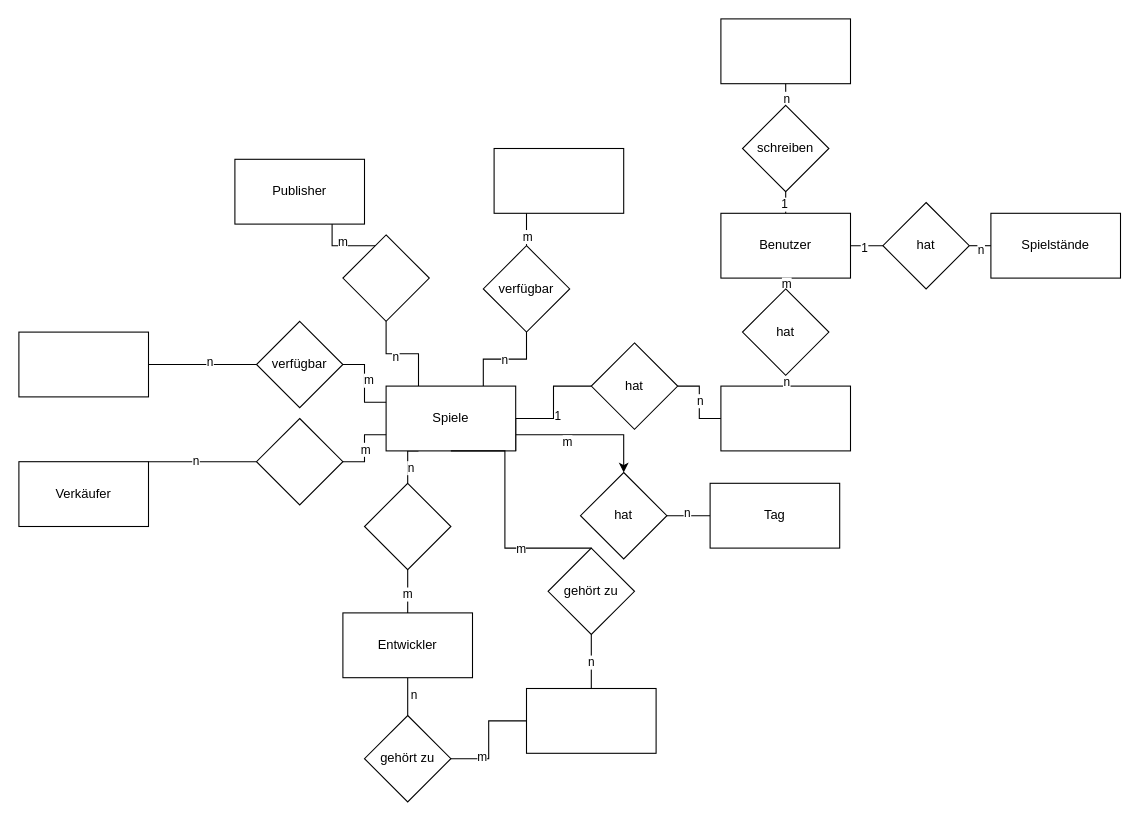
Image size: 1139x821. Some labels were removed from this diagram. The centre of each missing label's shape, as x and y in pixels:
"Achievements" goes at point 785,418.
"Bewertung" goes at point 785,51.
"entwickelt" goes at point 407,526.
"Genre" goes at point 590,720.
"kaufen" goes at point 299,461.
"Launcher" goes at point 558,180.
"Plattformen" goes at point 83,364.
"veröffentlicht" goes at point 385,277.
